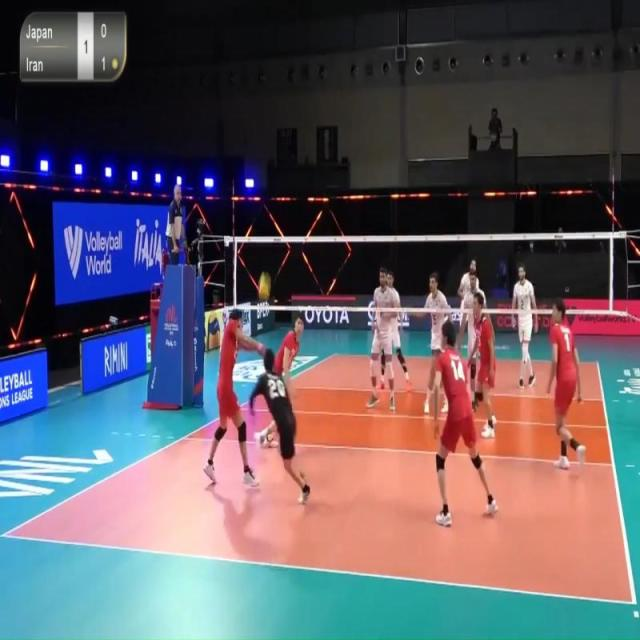volleyball: (254, 268, 274, 303)
